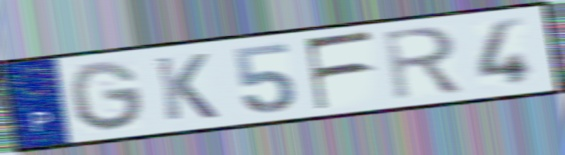4: (472, 16, 537, 88)
5: (230, 39, 299, 115)
F: (302, 28, 377, 113)
G: (66, 59, 148, 133)
K: (151, 51, 221, 123)
R: (380, 24, 467, 103)
